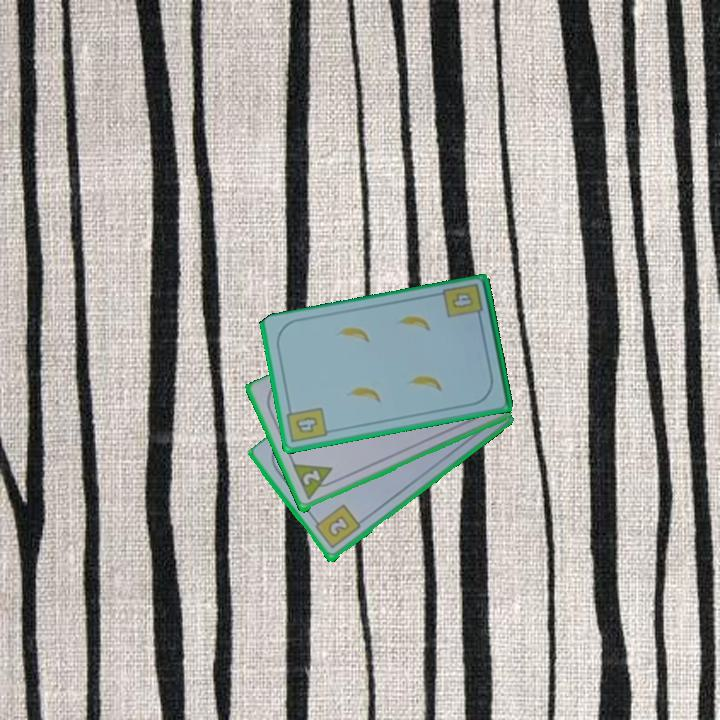2b: (309, 501, 363, 552)
2p: (299, 467, 323, 489)
4b: (440, 280, 486, 325), (283, 403, 330, 446)
